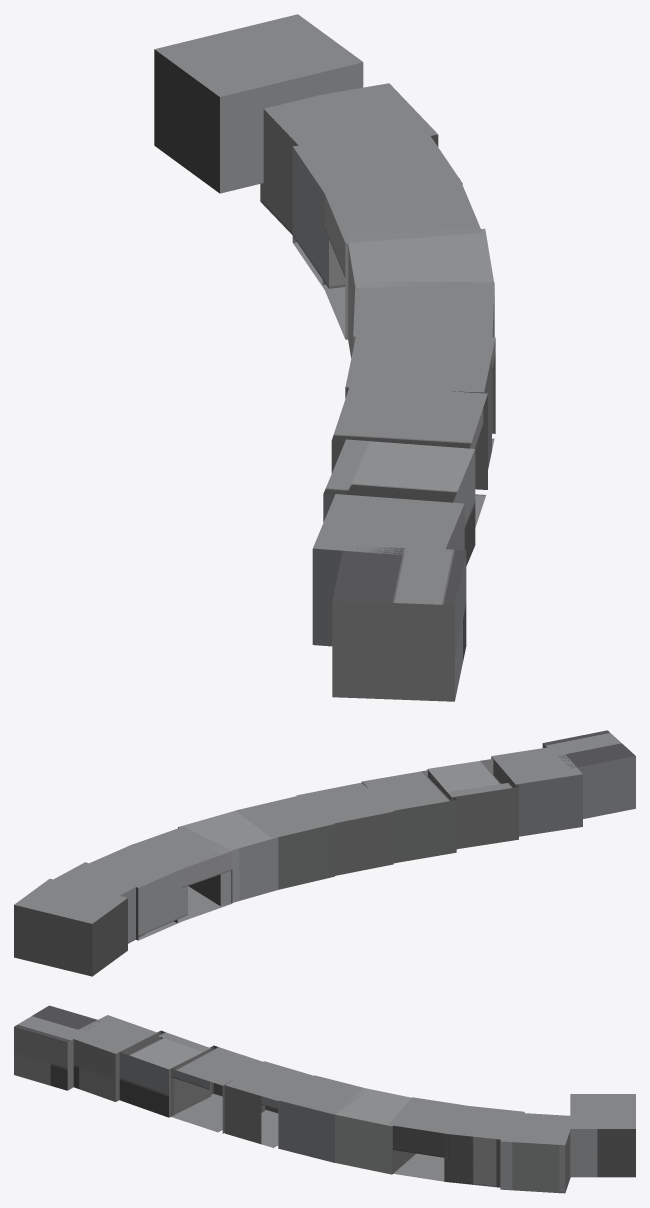
The picture shows the model from 3 angles, top to bottom: view 1: azimuth 30°, elevation 25°; view 2: azimuth 150°, elevation 25°; view 3: azimuth 270°, elevation 25°; orthographic projection. The views are drawn at different scales.
Bounding box in the file's own units: 0.8076 × 0.16 × 1.52.
